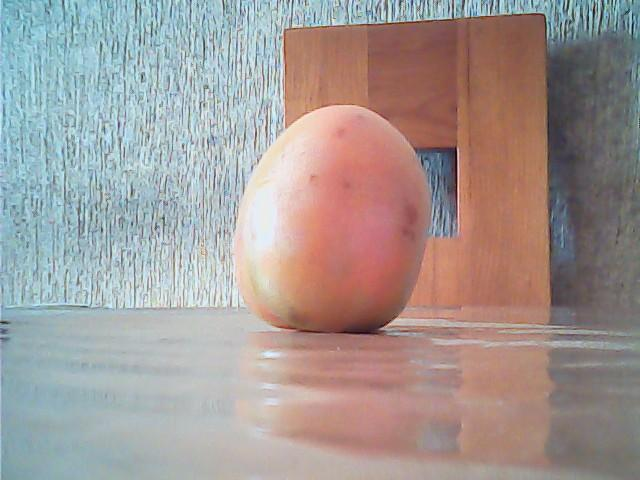verde: (233, 100, 433, 334)
